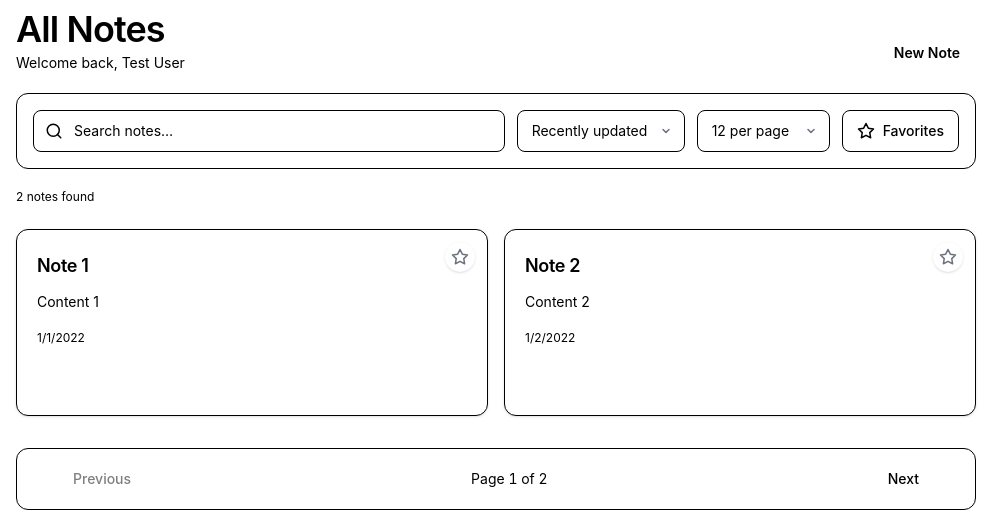
it: DashboardPage › clicking Next advances the page indicator to page 2
Click the button "Next" at [915, 478], box [872,460,959,496]
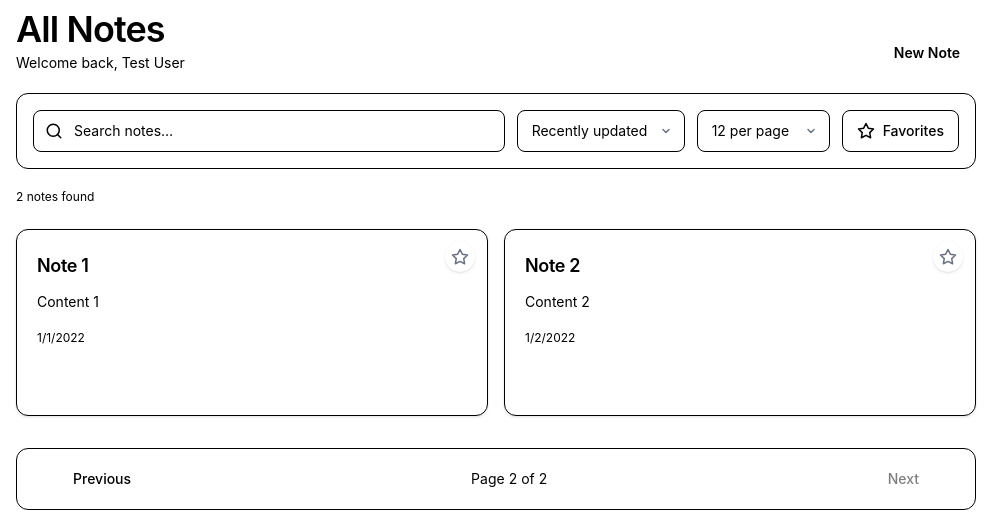
Check: the text "Page 2 of 2" is shown, box [471,468,548,488]
